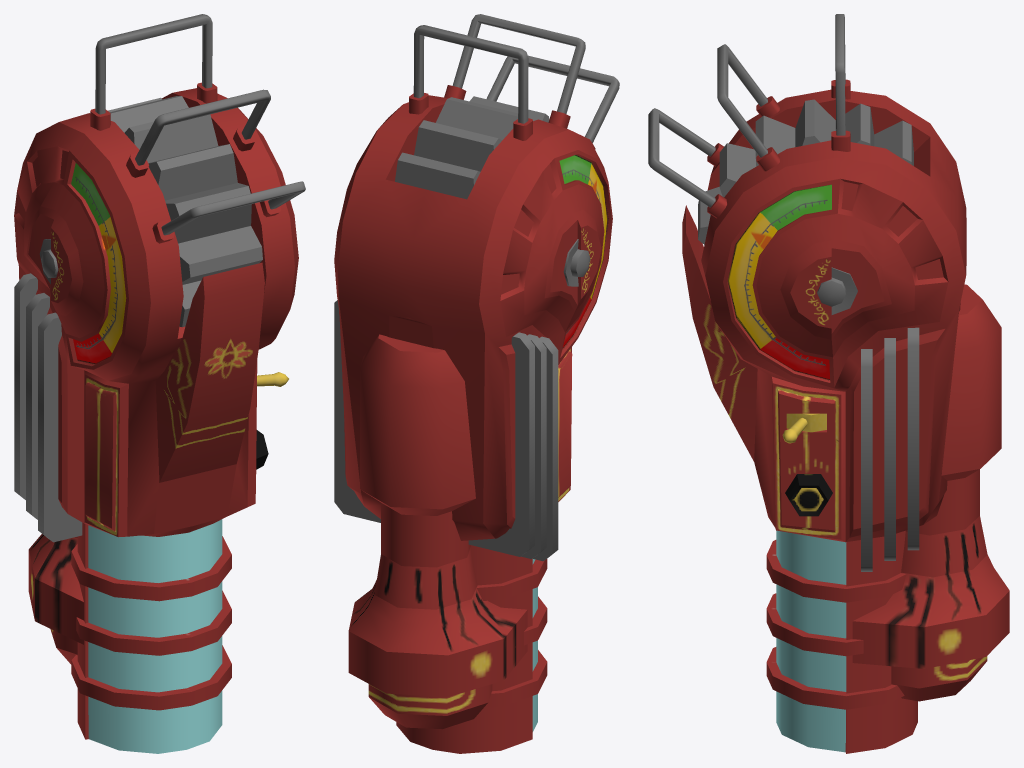
File: RayGunPartA.fbx
The picture shows the model from 3 angles, left to right: view 1: azimuth 30°, elevation 25°; view 2: azimuth 150°, elevation 25°; view 3: azimuth 270°, elevation 25°; orthographic projection. The views are drawn at different scales.
Visible parts, largest first — view 1: Cube.002; view 2: Cube.002; view 3: Cube.002.
Boxes of the visible parts, box(x1,y1,x2,y2) form: Cube.002: box(14, 14, 305, 753); Cube.002: box(334, 14, 619, 753); Cube.002: box(648, 14, 1009, 753).
Bounding box in the file's own units: 0.0695 × 0.2015 × 0.0965.
